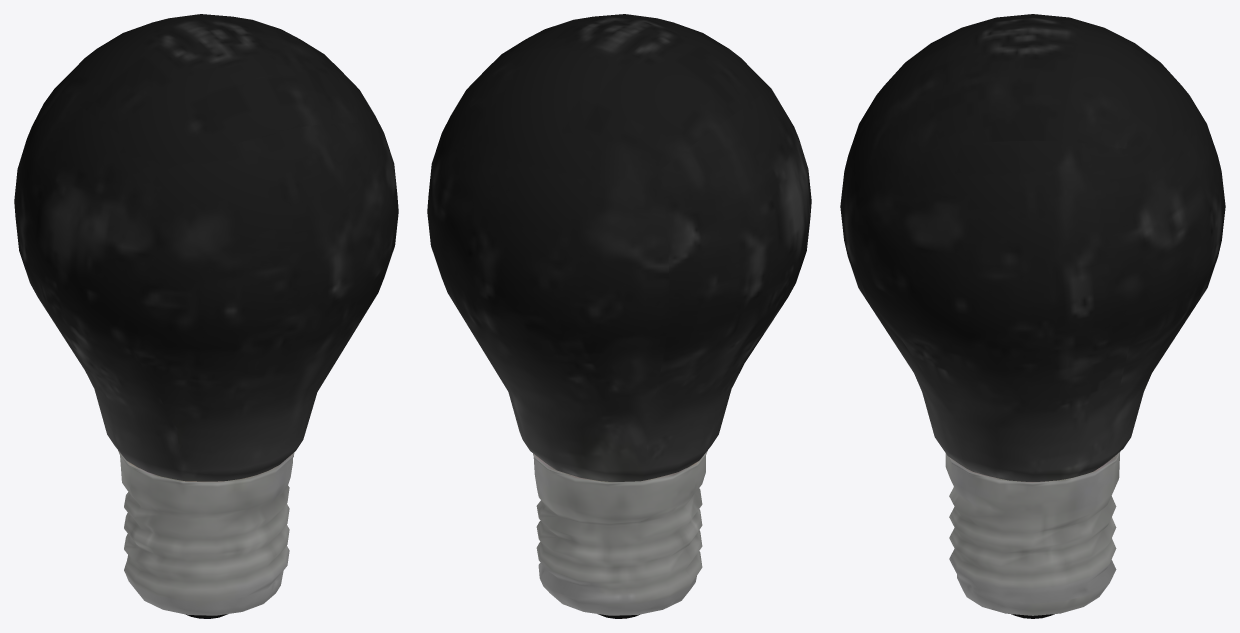
The model's file is lightbulb_01.glb.
3 renders of one model, left to right at view 1: azimuth 30°, elevation 25°; view 2: azimuth 150°, elevation 25°; view 3: azimuth 270°, elevation 25°, orthographic.
Visible parts, largest first — view 1: lightbulb_01; view 2: lightbulb_01; view 3: lightbulb_01.
Boxes of the visible parts, x1,y1,x2,y2 form: lightbulb_01: (14,14,398,618); lightbulb_01: (427,14,811,618); lightbulb_01: (840,14,1225,618).
Size of the model in its own units: 0.06 by 0.1003 by 0.06.
2 materials, 2 textured.
